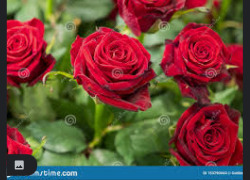RedRose: (71, 19, 153, 112), (162, 18, 234, 98), (169, 102, 243, 166), (5, 15, 61, 91)
